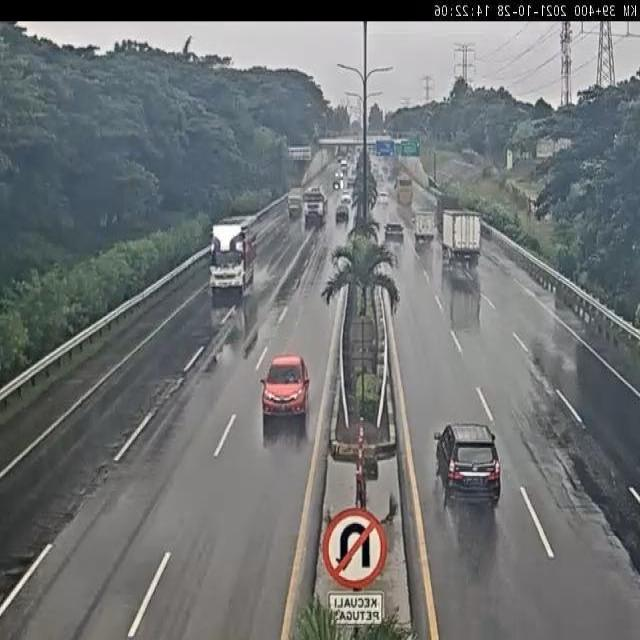Car: (435, 390, 501, 527), (258, 330, 312, 451), (335, 181, 358, 248), (383, 208, 406, 262)
Truck: (198, 193, 262, 318), (443, 190, 487, 278), (412, 196, 438, 258), (306, 173, 329, 241), (280, 183, 305, 232)
